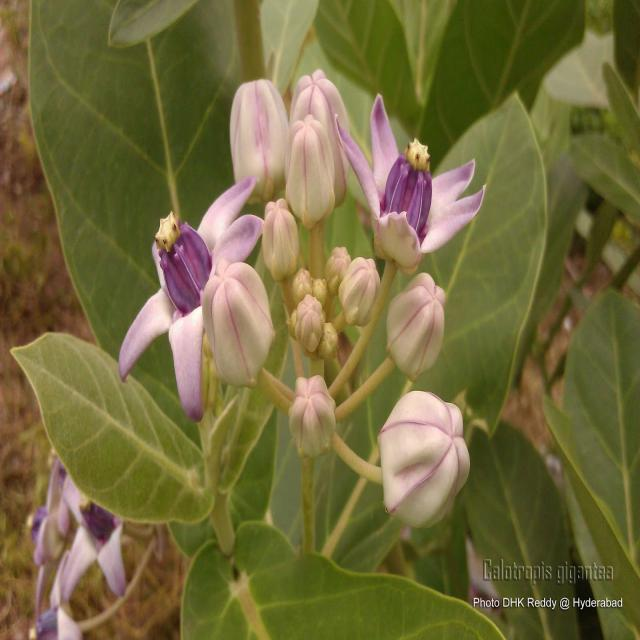Poisonous-Calatropis: (112, 60, 490, 536)
